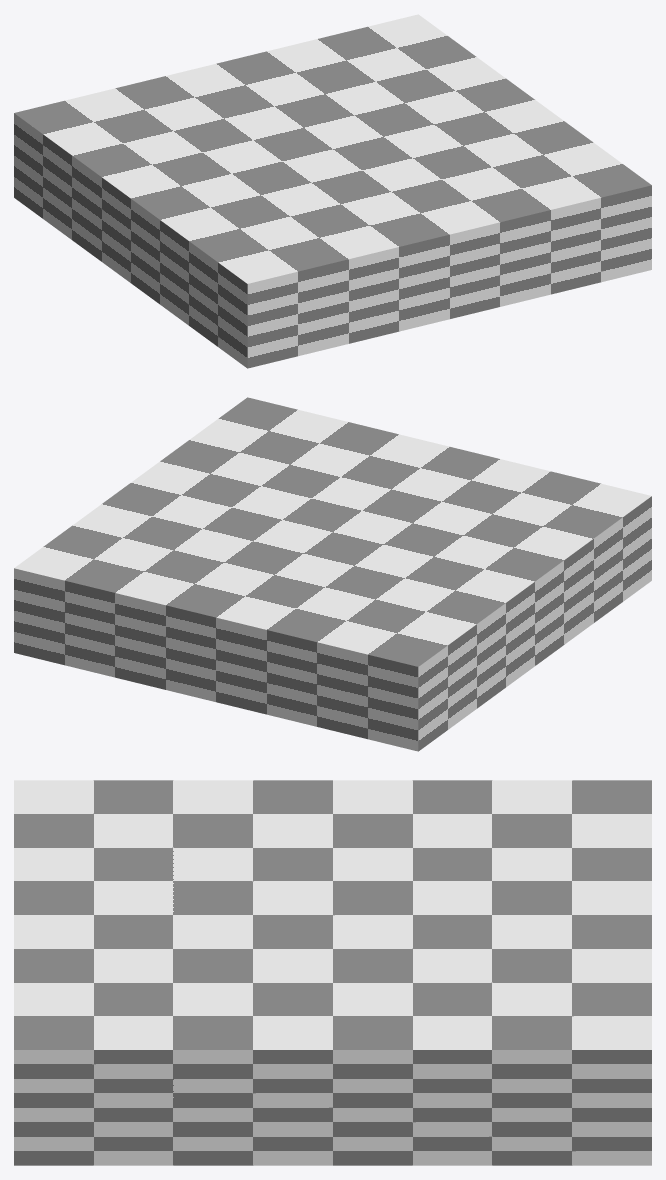
Rendered from testbox.gltf.
The picture shows the model from 3 angles, top to bottom: view 1: azimuth 30°, elevation 25°; view 2: azimuth 150°, elevation 25°; view 3: azimuth 270°, elevation 25°; orthographic projection. The views are drawn at different scales.
Visible parts, largest first — view 1: Room; view 2: Room; view 3: Room.
Part boxes in pixels (bbox=[...]): Room: bbox=[14, 14, 651, 368]; Room: bbox=[14, 397, 651, 751]; Room: bbox=[14, 780, 651, 1165].
Size of the model in its own units: 20 by 4 by 20.
Materials: 2 (1 with a texture image).
